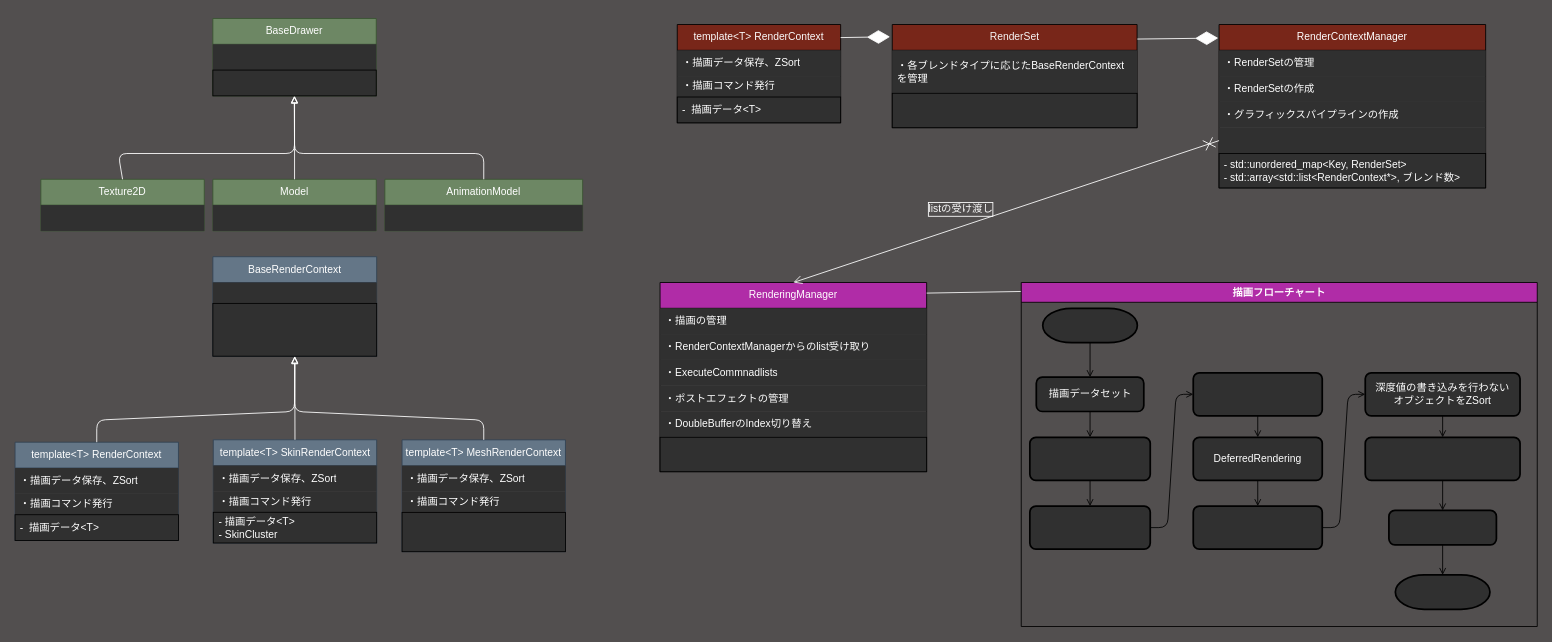
This 1552x642 diagram has some shape labels left out. Each missing label, with the centre of its shape:
# RenderSet*: point (294, 82)
# モデルデータ # GraphicPipeline # DrawCont: point (294, 329)
- std::array<BaseRenderContext, ブレンド数>: point (1014, 110)
- 各種レンダーターゲット - DepthBbuffer: point (793, 454)
- 描画データ<T> - MeshShader用StructuredBuffer: point (483, 532)
DrawCountのリセット: point (1442, 527)
SkyBox描画: point (1090, 527)
ブレンドをしない オブジェクトの描画: point (1090, 458)
ブレンドをする オブジェクトの描画: point (1257, 527)
ブレンドをする オブジェクトをZSort: point (1257, 394)
・スキンアニメーションモデル描画: point (483, 217)
・モデル描画: point (294, 217)
・対応するRenderSetの管理: point (294, 57)
・描画するRenderContextをまとめたlistの作成: point (1352, 140)
・描画カウント: point (294, 292)
・板ポリゴン描画: point (122, 217)
描画処理終了: point (1442, 592)
描画処理開始: point (1089, 325)
深度値の書き込みを行わない オブジェクトの描画: point (1442, 458)
